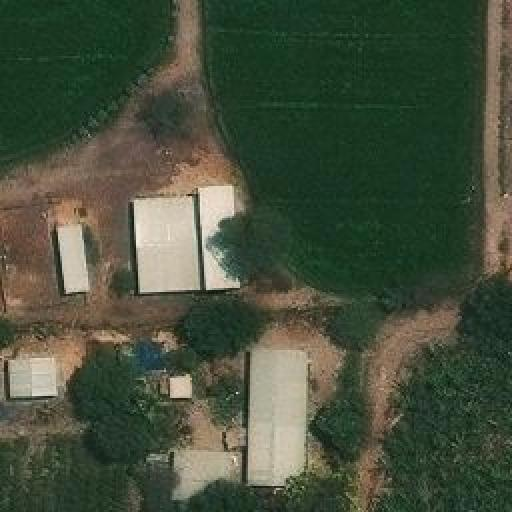manzanas: (0, 321, 309, 510)
